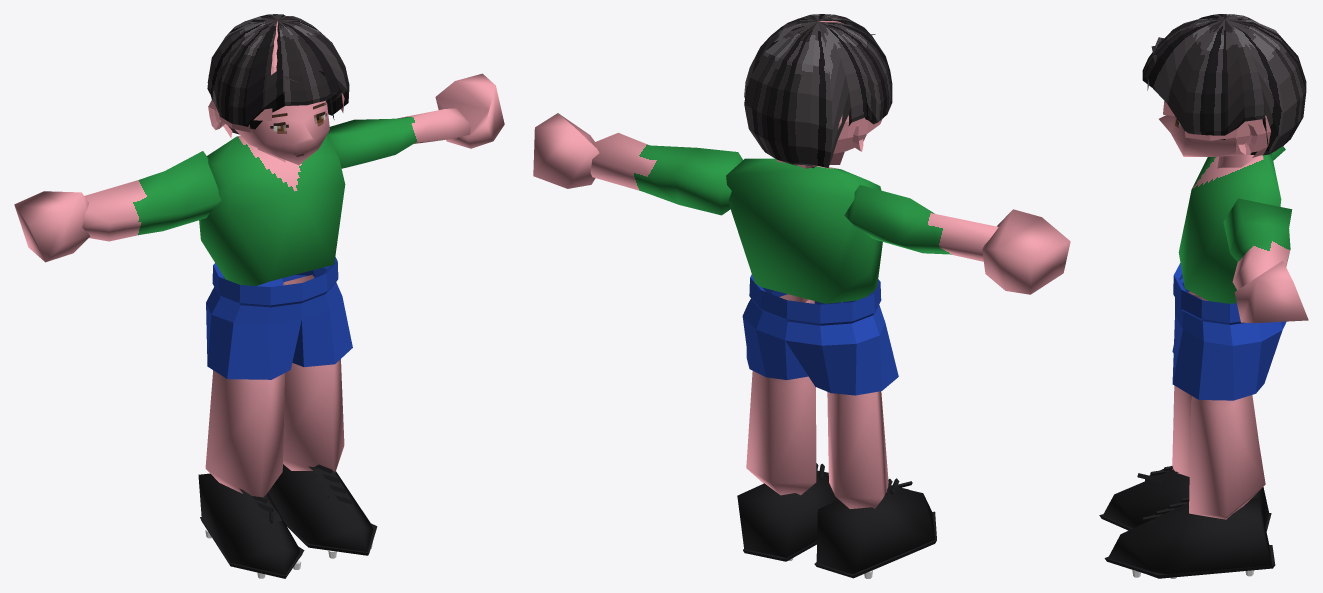
File: 01-liso-repartido_preto.glb
The picture shows the model from 3 angles, left to right: view 1: azimuth 30°, elevation 25°; view 2: azimuth 150°, elevation 25°; view 3: azimuth 270°, elevation 25°; orthographic projection. The views are drawn at different scales.
Parts seen in each view (by area): view 1: Camisa_Tronco, Bermuda, Cabelo, Perna.R, Braco.R, Perna.L, Chuteira.R, Chuteira.L, Braco.L, Mao.R, Cabeca, Mao.L (+3 smaller); view 2: Camisa_Tronco, Cabelo, Bermuda, Perna.L, Braco.L, Chuteira.R, Perna.R, Braco.R, Mao.R, Chuteira.L, Mao.L, Couro_Cabeludo (+1 smaller); view 3: Cabelo, Bermuda, Chuteira.L, Camisa_Tronco, Perna.L, Braco.L, Mao.L, Chuteira.R, Perna.R, Cabeca, Couro_Cabeludo, Chuteira_Sola.L (+4 smaller).
Part boxes in pixels (x1,y1,x2,y2): Camisa_Tronco: (199, 135, 345, 285); Bermuda: (206, 257, 352, 379); Cabelo: (207, 14, 349, 134); Perna.R: (205, 370, 284, 501); Braco.R: (82, 151, 221, 241); Perna.L: (283, 274, 344, 472); Chuteira.R: (198, 473, 302, 574); Chuteira.L: (267, 464, 373, 551); Braco.L: (326, 108, 471, 168); Mao.R: (14, 191, 89, 262); Cabeca: (235, 100, 329, 164); Mao.L: (435, 73, 504, 148); Camisa_Tronco: (726, 158, 882, 303); Cabelo: (744, 14, 892, 168); Bermuda: (742, 274, 898, 395); Perna.L: (746, 294, 816, 495); Braco.L: (590, 132, 742, 215); Chuteira.R: (816, 485, 934, 573); Perna.R: (827, 391, 888, 508); Braco.R: (844, 185, 998, 261); Mao.R: (982, 209, 1070, 294); Chuteira.L: (737, 470, 838, 557); Mao.L: (533, 113, 599, 188); Couro_Cabeludo: (776, 20, 882, 168); Cabelo: (1142, 14, 1306, 155); Bermuda: (1172, 263, 1286, 400); Chuteira.L: (1108, 498, 1272, 578); Camisa_Tronco: (1178, 153, 1281, 303); Perna.L: (1189, 395, 1265, 519); Braco.L: (1223, 198, 1292, 290); Mao.L: (1234, 261, 1308, 323); Chuteira.R: (1103, 469, 1268, 528); Perna.R: (1172, 291, 1258, 476); Cabeca: (1159, 115, 1250, 156); Couro_Cabeludo: (1163, 101, 1276, 157); Chuteira_Sola.L: (1104, 545, 1275, 578).
Bounding box in the file's own units: 0.4523 × 0.4533 × 0.1617.
Materials: 3 (3 with a texture image).
